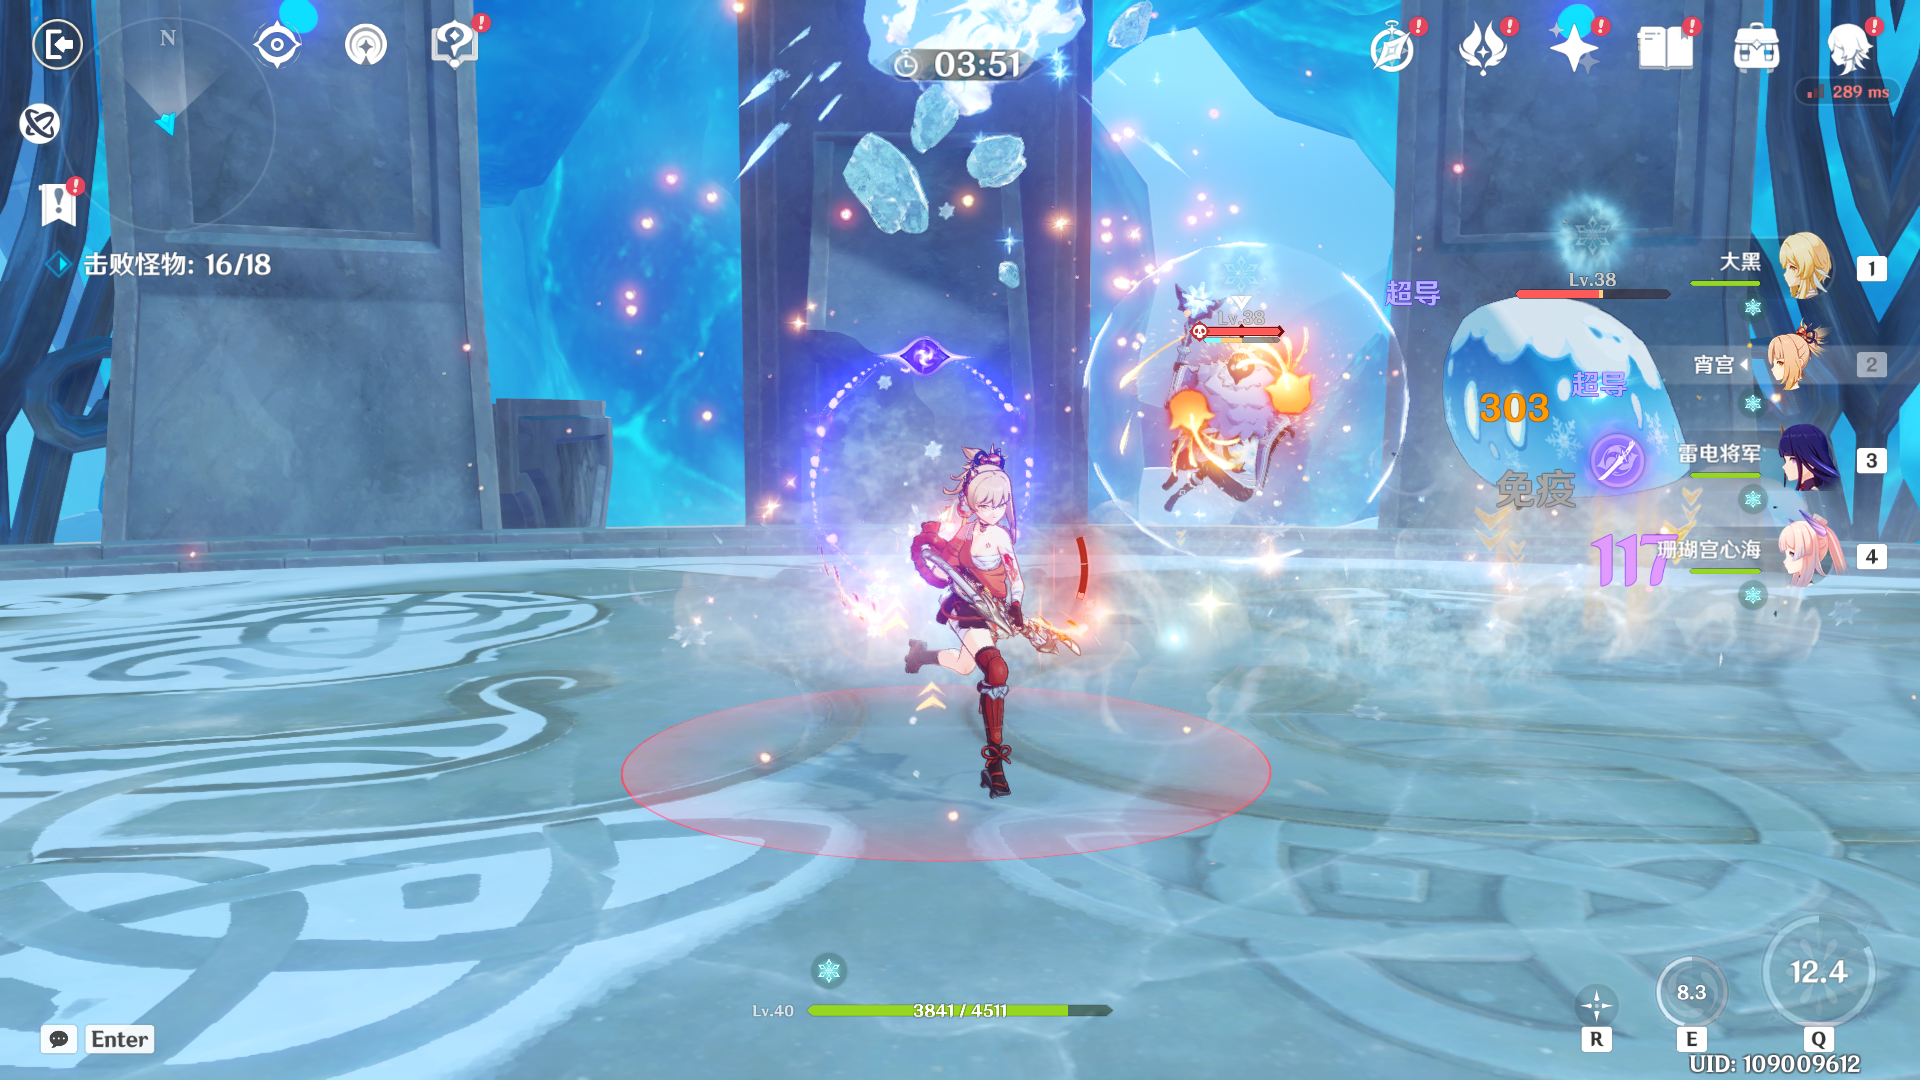caster: (1126, 278, 1350, 531)
character: (848, 435, 1145, 808)
slime: (1408, 284, 1712, 539)
